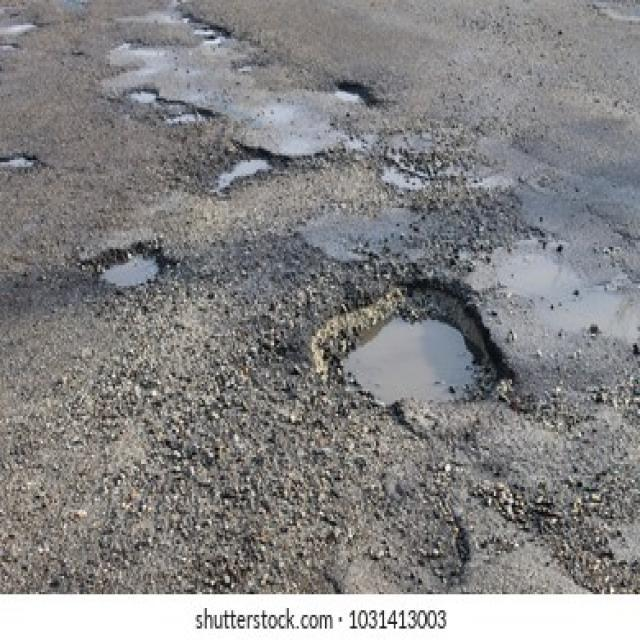Pothole: (307, 269, 514, 416), (95, 240, 163, 290), (215, 148, 274, 190), (1, 146, 40, 174), (330, 78, 366, 103), (124, 84, 160, 108), (168, 108, 214, 124), (204, 32, 226, 46), (192, 25, 222, 34), (181, 14, 192, 23)
